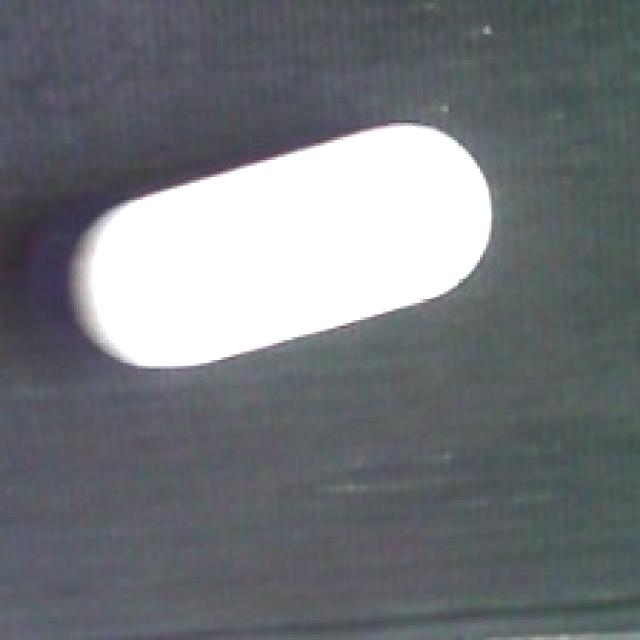no-defect: (60, 113, 500, 371)
